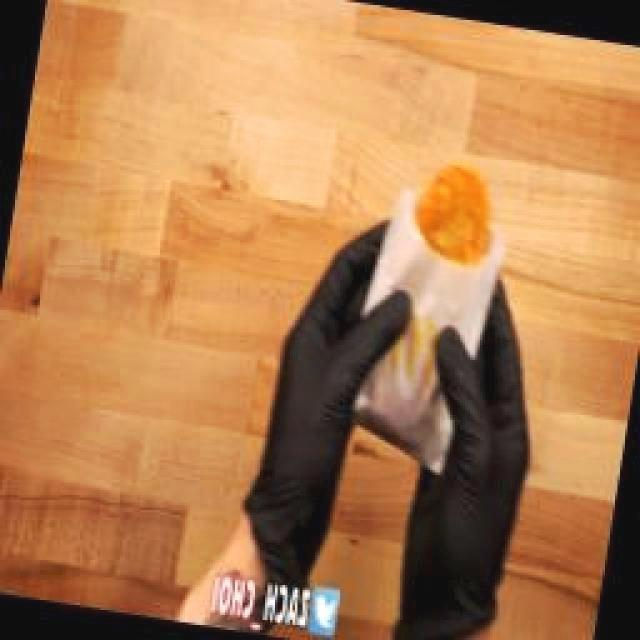Hashbrown: (416, 165, 490, 264)
